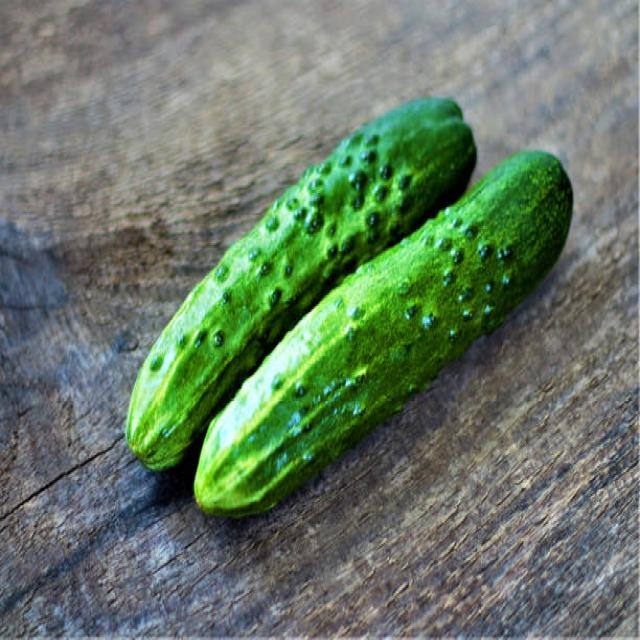cucumber: (126, 93, 575, 515)
